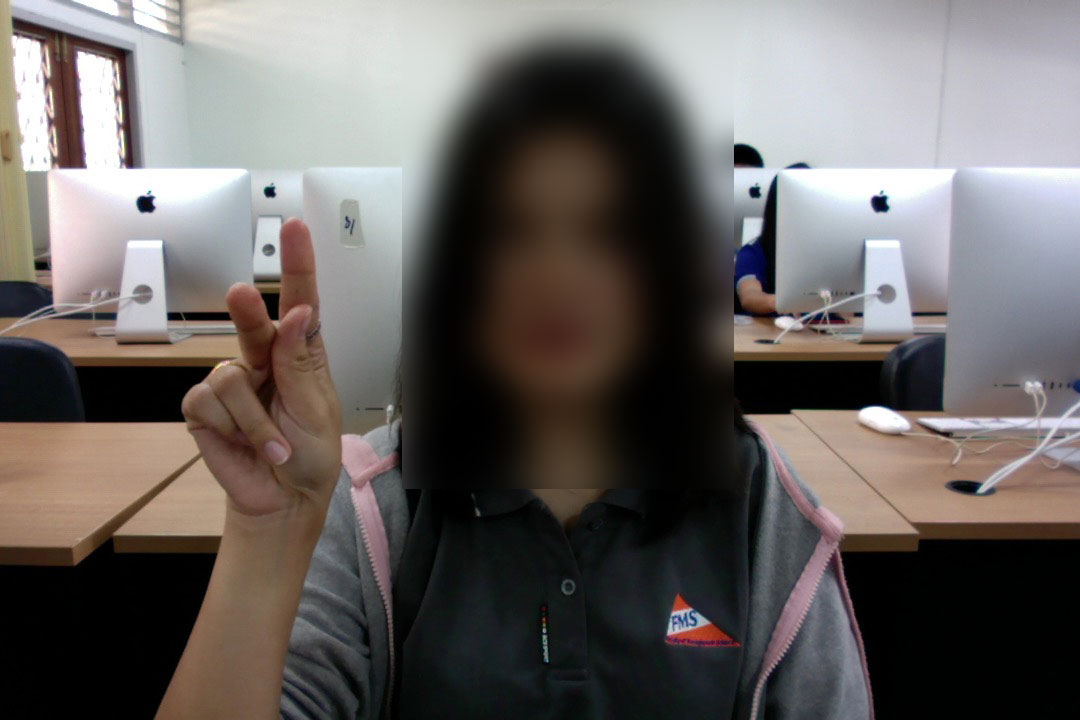ko: (171, 212, 345, 525)
